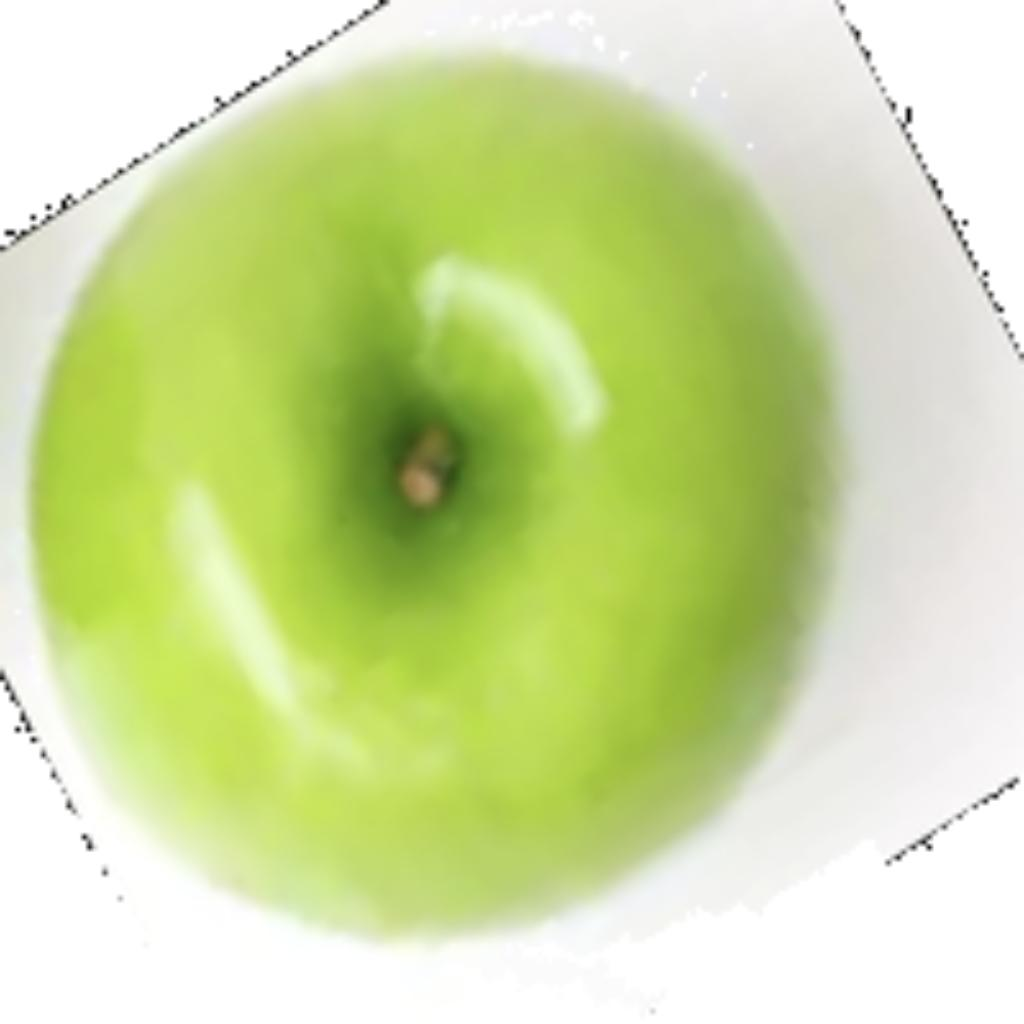apple: (10, 0, 865, 952)
